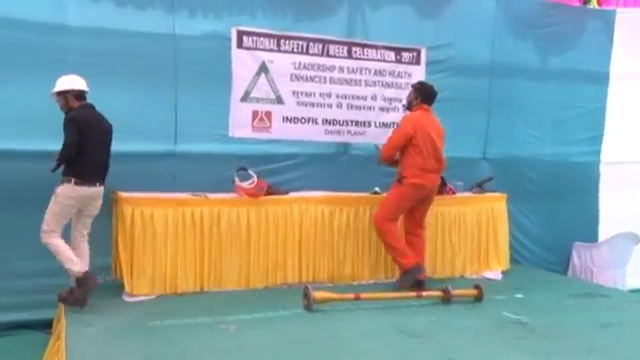helmet: (48, 72, 90, 97)
helmet_off: (406, 81, 437, 111)
helmet_on: (46, 73, 90, 115)
person: (36, 71, 113, 311), (381, 82, 444, 289)
